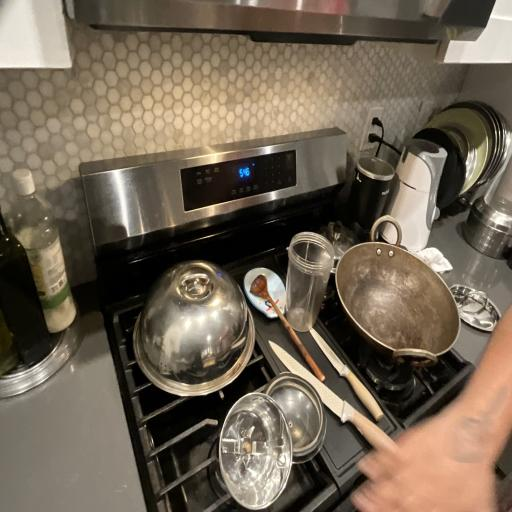Pan: (330, 221, 468, 386)
Stove: (81, 144, 482, 506), (380, 268, 511, 512)
knife: (267, 328, 410, 486), (302, 309, 390, 426)
